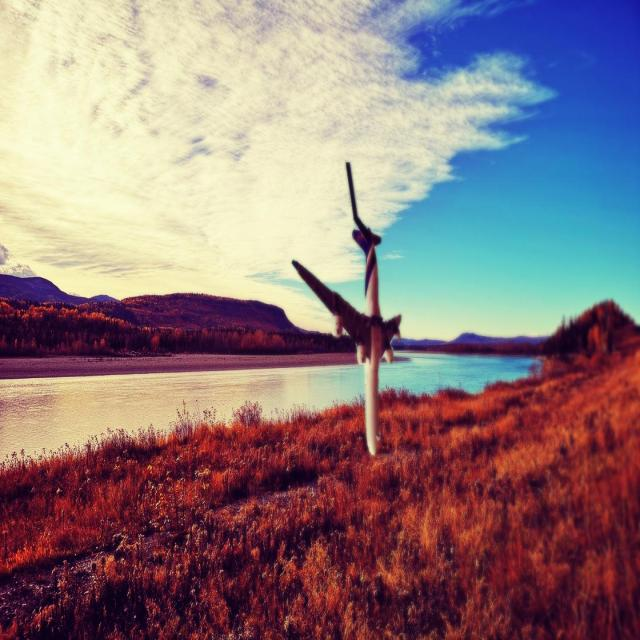airplane: (290, 160, 403, 456)
